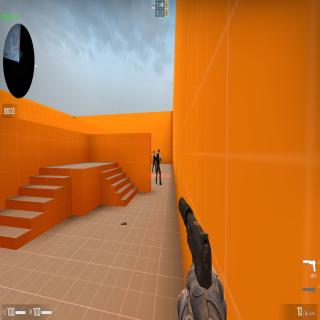T-Body: (156, 149, 162, 185), (152, 150, 156, 173)
T-Head: (158, 149, 160, 154), (154, 150, 154, 154)
